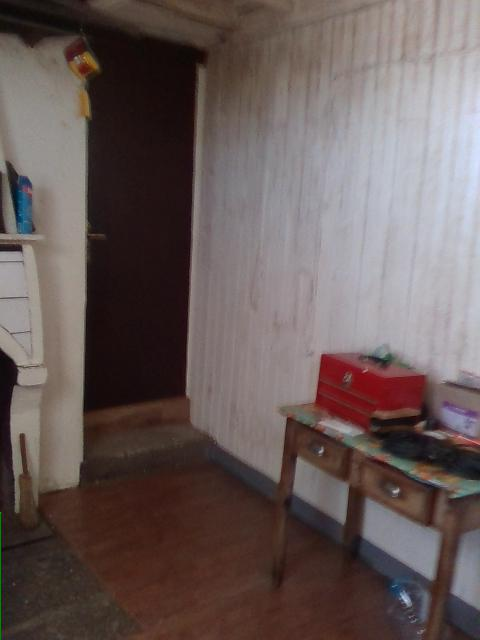door: (83, 32, 198, 413)
